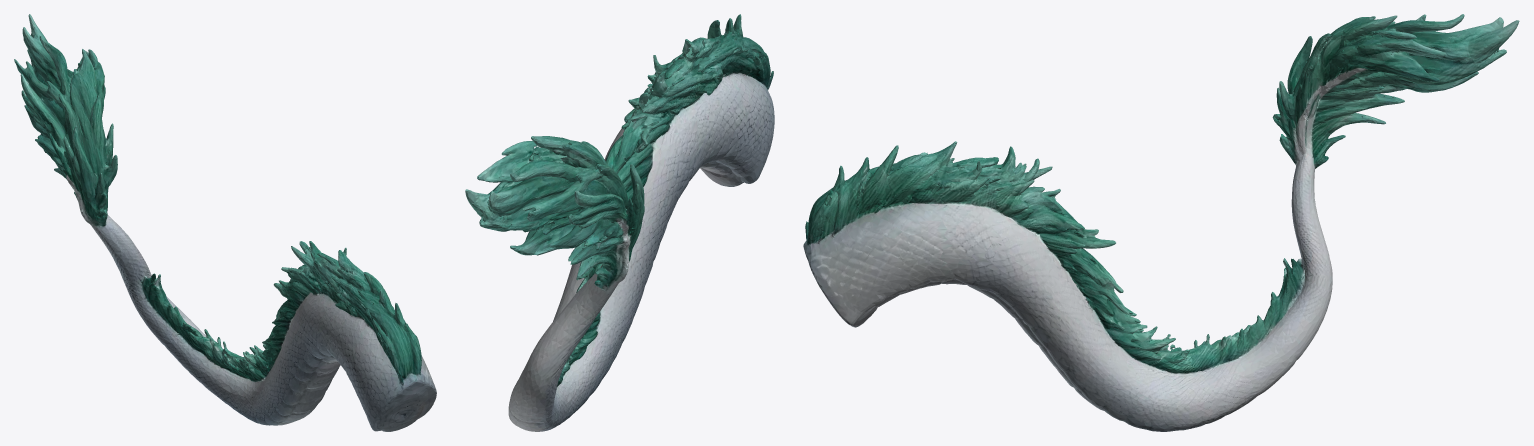
The model's file is haku-queue.glb.
3 renders of one model, left to right at view 1: azimuth 30°, elevation 25°; view 2: azimuth 150°, elevation 25°; view 3: azimuth 270°, elevation 25°, orthographic. The views are drawn at different scales.
Visible parts, largest first — view 1: tripo_node_568a0e50-c8c8-4654-a022-db0629210a7a; view 2: tripo_node_568a0e50-c8c8-4654-a022-db0629210a7a; view 3: tripo_node_568a0e50-c8c8-4654-a022-db0629210a7a.
Boxes of the visible parts, x1,y1,x2,y2 form: tripo_node_568a0e50-c8c8-4654-a022-db0629210a7a: [14, 14, 436, 431]; tripo_node_568a0e50-c8c8-4654-a022-db0629210a7a: [465, 14, 774, 431]; tripo_node_568a0e50-c8c8-4654-a022-db0629210a7a: [803, 14, 1519, 431].
Bounding box in the file's own units: 0.3094 × 0.5635 × 1.
Materials: 1 (1 with a texture image).
